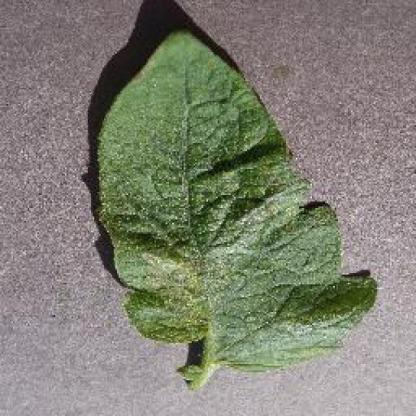Tomato_Spider_Mites: (99, 28, 376, 365)
